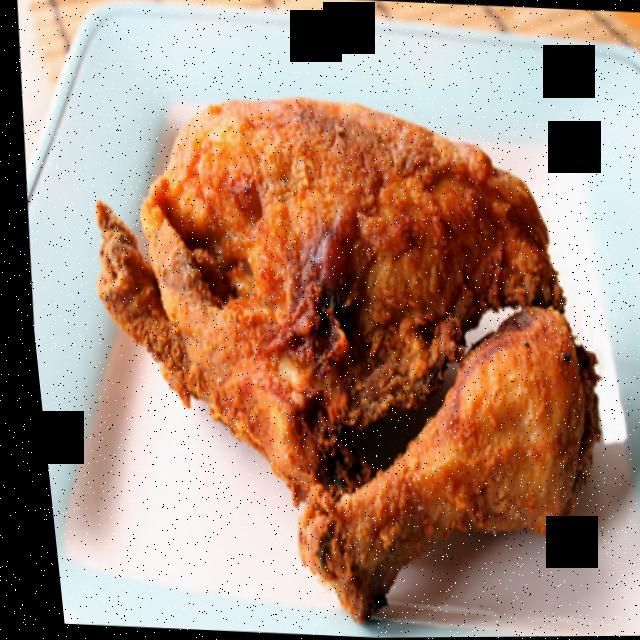Frango: (57, 80, 628, 640)
